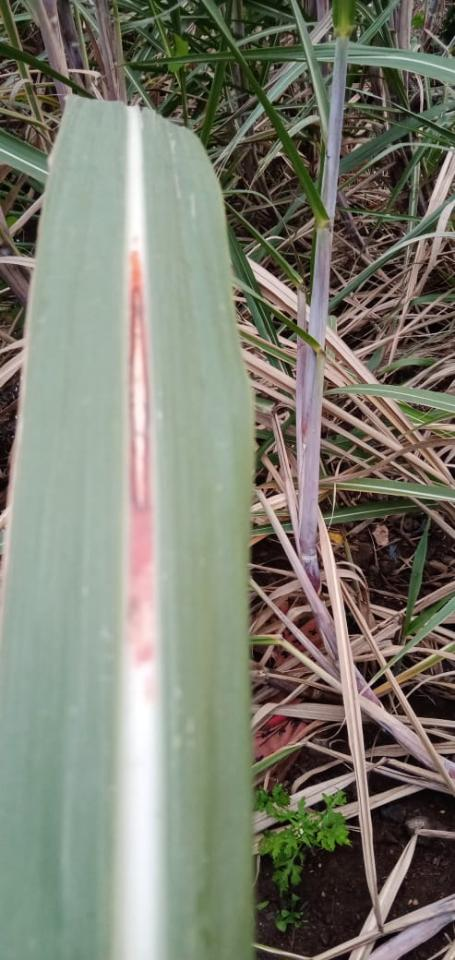RedRot: (122, 226, 157, 676)
